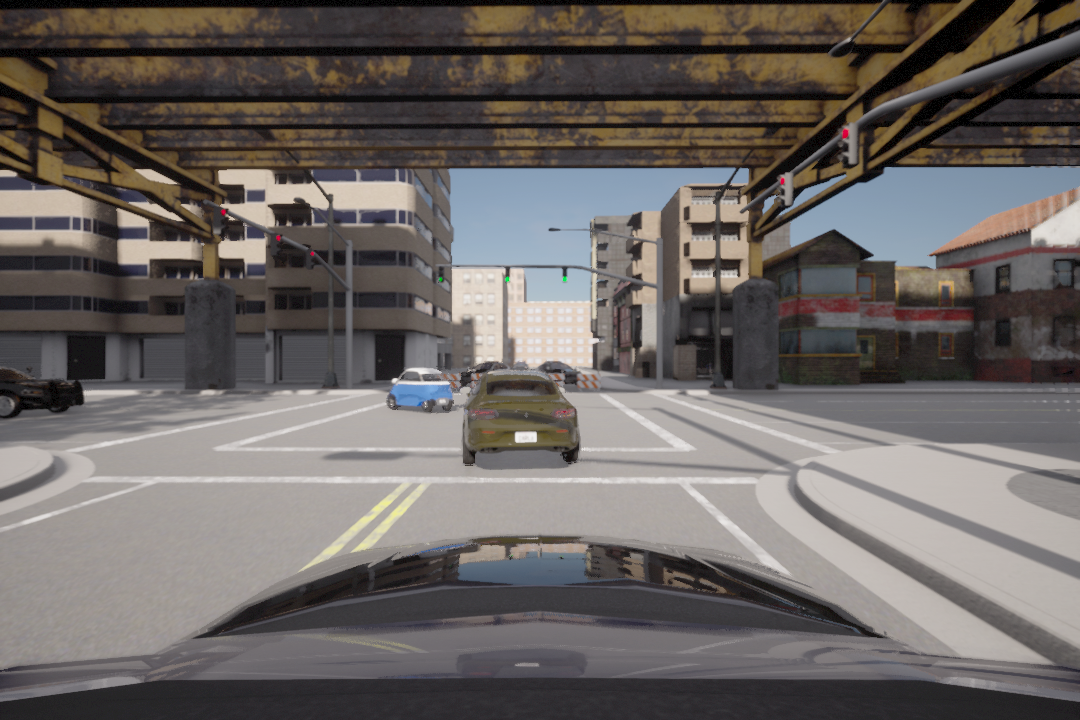TrafficLight: (834, 124, 860, 166), (211, 201, 230, 235), (774, 174, 792, 208), (268, 232, 281, 257), (502, 264, 513, 287), (305, 247, 315, 271), (560, 267, 571, 286), (435, 265, 445, 284)
